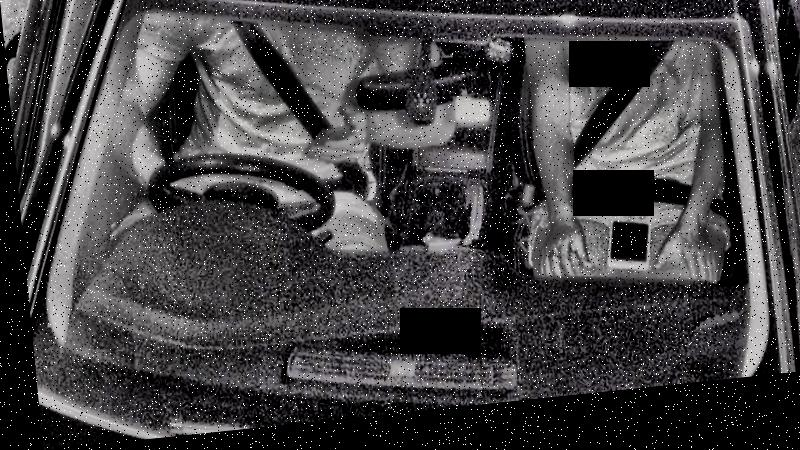seatbelt: (209, 8, 373, 219), (552, 57, 725, 245)
